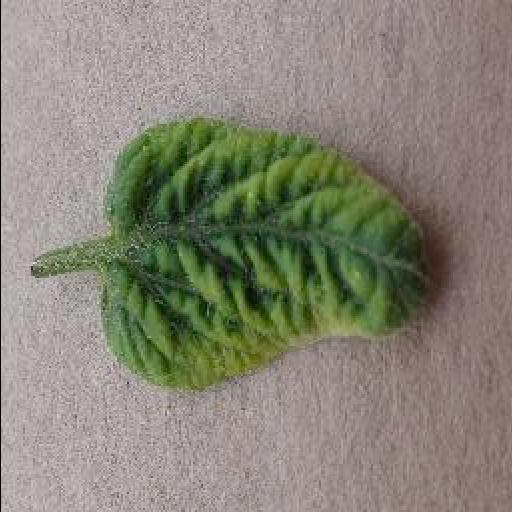disease_tomato: (103, 120, 433, 390)
